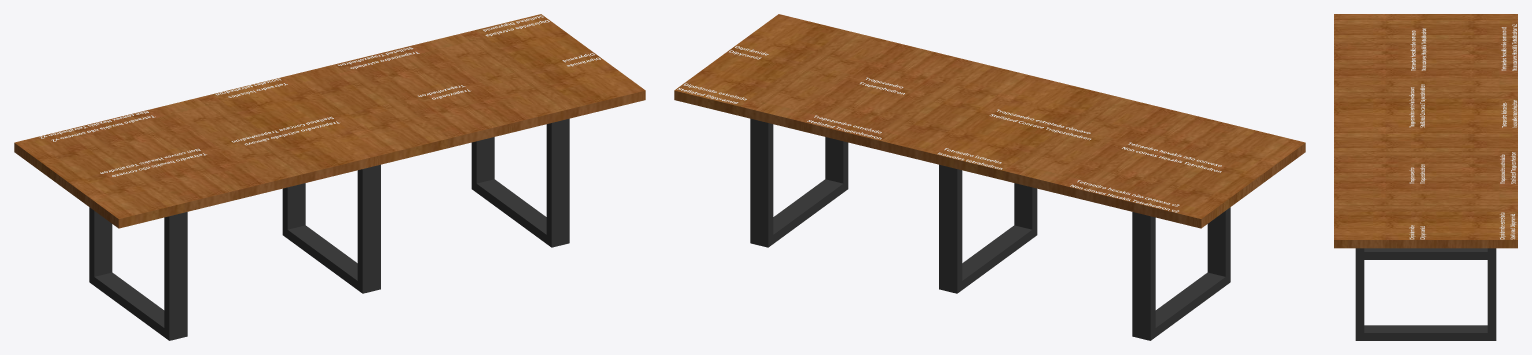
File: mesa_Prisms1.glb
3 views of the same model, side by side, from view 1: azimuth 30°, elevation 25°; view 2: azimuth 150°, elevation 25°; view 3: azimuth 270°, elevation 25° (orthographic). The views are drawn at different scales.
Parts seen in each view (by area): view 1: object 1, Composant#1 (×3); view 2: object 1, Composant#1 (×3); view 3: object 1, Composant#1 (×2), Tetraedro hexaki#1, Trapezoedro estr#1, Tetraedro hexaki, Trapezoedro estr, Dipirâmide estre, Tetraedro isósce, Trapezoedro Trap.
Boxes of the visible parts, box(x1,y1,x2,y2) form: object 1: box(14, 14, 645, 228); Composant#1 (×3): box(89, 118, 569, 340); object 1: box(674, 14, 1305, 228); Composant#1 (×3): box(750, 118, 1230, 340); object 1: box(1334, 14, 1517, 248); Composant#1 (×2): box(1355, 248, 1496, 340); Tetraedro hexaki#1: box(1501, 24, 1516, 70); Trapezoedro estr#1: box(1409, 84, 1425, 127); Tetraedro hexaki: box(1410, 28, 1426, 70); Trapezoedro estr: box(1500, 152, 1516, 183); Dipirâmide estre: box(1500, 212, 1516, 239); Tetraedro isósce: box(1501, 100, 1516, 127); Trapezoedro Trap: box(1409, 164, 1425, 183).
Bounding box in the file's own units: 2.91 × 0.771 × 1.
Materials: 3 (1 with a texture image).
